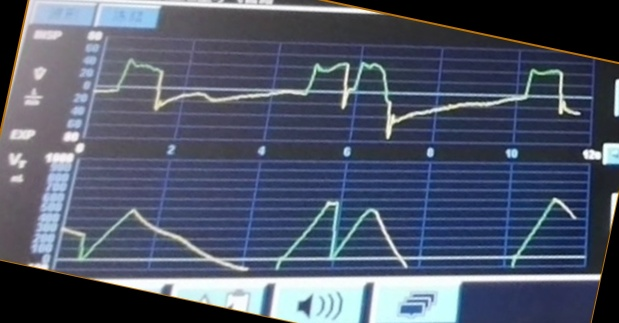Double_Triggering Flow: (104, 54, 577, 144)
Double_Triggering Volume: (64, 191, 580, 274)
